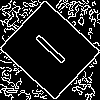I: (25, 25, 69, 67)
